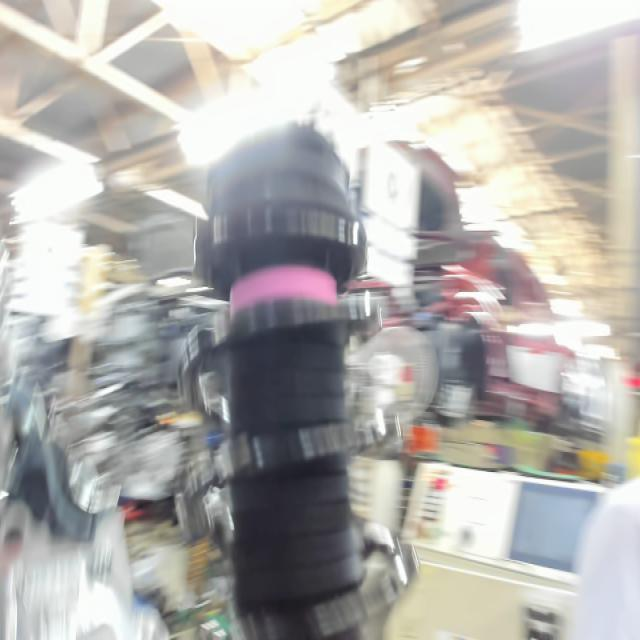Bumper-PK: (221, 259, 340, 315)
